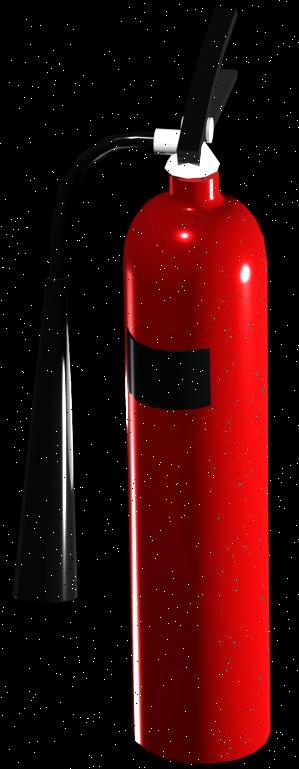Fire Extinguisher: (48, 0, 299, 764)
